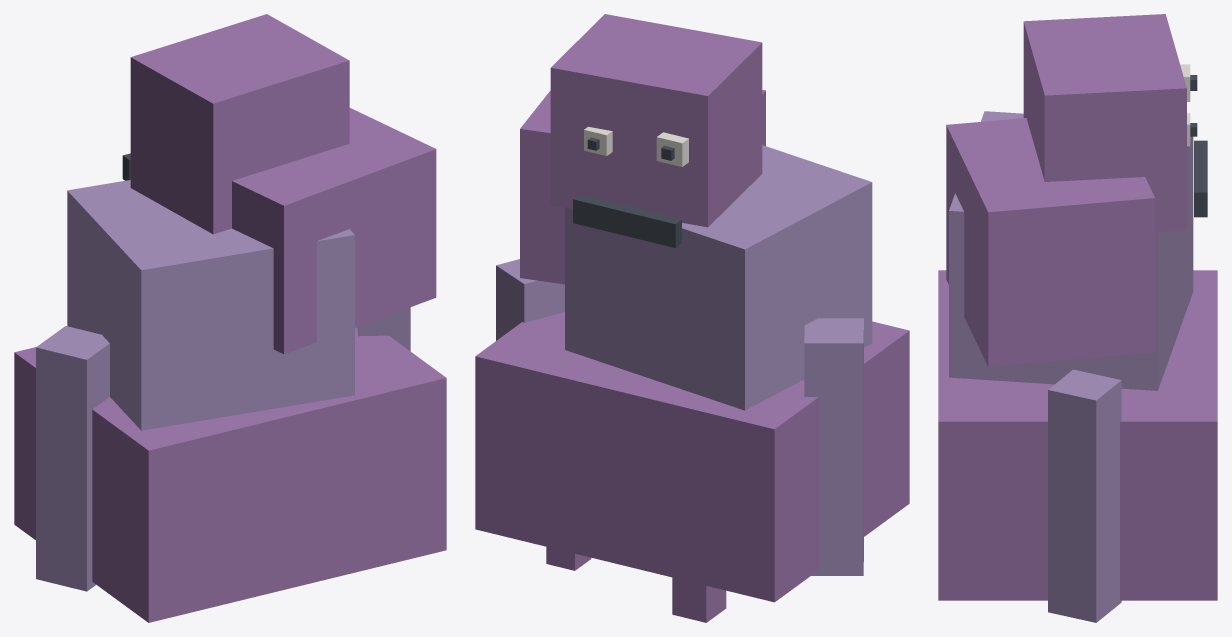
File: horror_gosmento.glb
The picture shows the model from 3 angles, left to right: view 1: azimuth 30°, elevation 25°; view 2: azimuth 150°, elevation 25°; view 3: azimuth 270°, elevation 25°; orthographic projection. The views are drawn at different scales.
Parts seen in each view (by area): view 1: horror_gosmento_slime, horror_gosmento_purple; view 2: horror_gosmento_slime, horror_gosmento_purple, horror_gosmento_dark, horror_gosmento_bone; view 3: horror_gosmento_slime, horror_gosmento_purple, horror_gosmento_dark.
Boxes of the visible parts, left/top/right/bottom form: horror_gosmento_slime: left=14, top=14, right=446, bottom=622; horror_gosmento_purple: left=36, top=180, right=410, bottom=591; horror_gosmento_slime: left=475, top=14, right=909, bottom=622; horror_gosmento_purple: left=496, top=145, right=872, bottom=575; horror_gosmento_dark: left=573, top=137, right=681, bottom=247; horror_gosmento_bone: left=584, top=126, right=688, bottom=166; horror_gosmento_slime: left=938, top=14, right=1217, bottom=600; horror_gosmento_purple: left=949, top=111, right=1193, bottom=622; horror_gosmento_dark: left=1190, top=75, right=1207, bottom=217.
Size of the model in its own units: 1.3 by 1.69 by 0.82.
